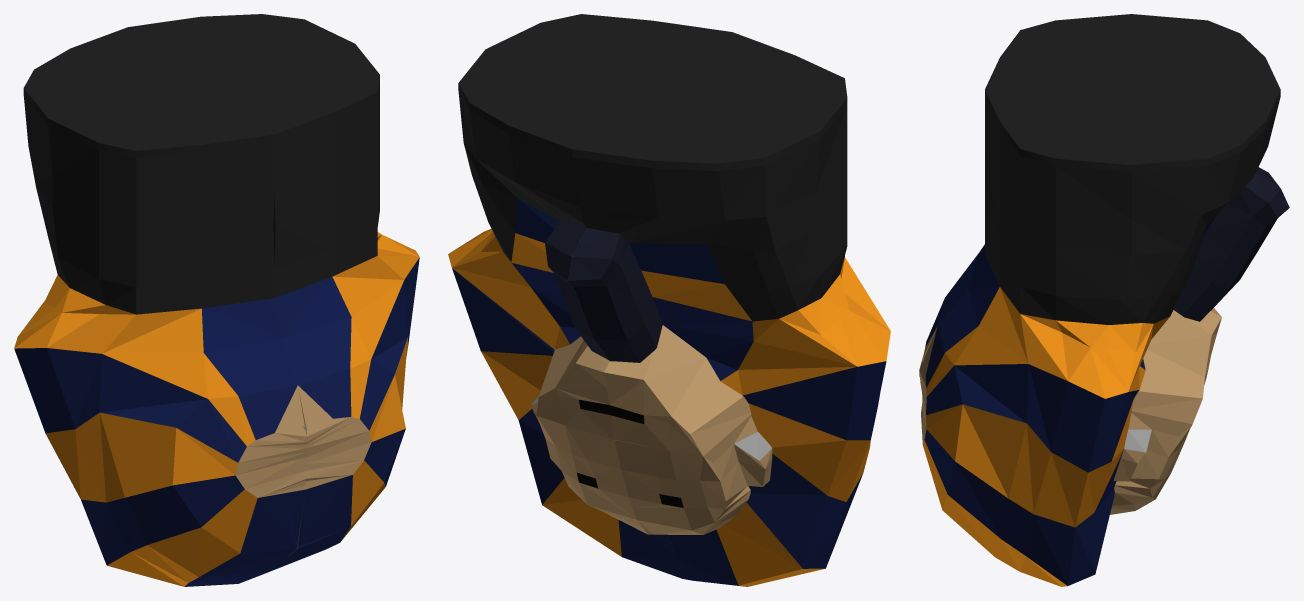
File: Pharao.FBX
The picture shows the model from 3 angles, left to right: view 1: azimuth 30°, elevation 25°; view 2: azimuth 150°, elevation 25°; view 3: azimuth 270°, elevation 25°; orthographic projection. The views are drawn at different scales.
Parts seen in each view (by area): view 1: Cylinder002; view 2: Cylinder002; view 3: Cylinder002.
Boxes of the visible parts, box(x1,y1,x2,y2) form: Cylinder002: box(14, 14, 419, 586); Cylinder002: box(448, 14, 890, 586); Cylinder002: box(919, 14, 1289, 586).
Size of the model in its own units: 71.57 by 81.05 by 56.7.
